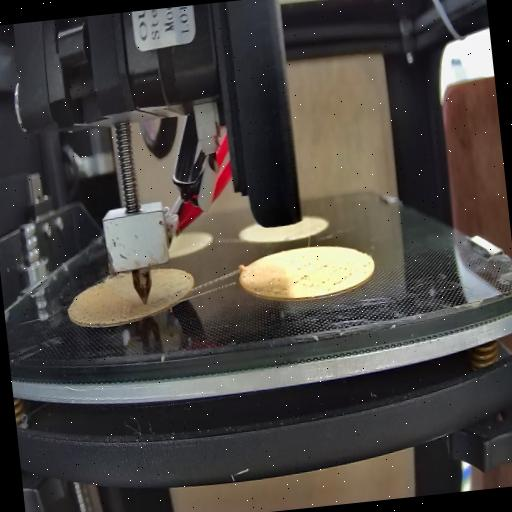under_extrusion: (292, 250, 373, 294), (151, 284, 191, 310), (251, 276, 285, 306), (82, 306, 128, 326)
